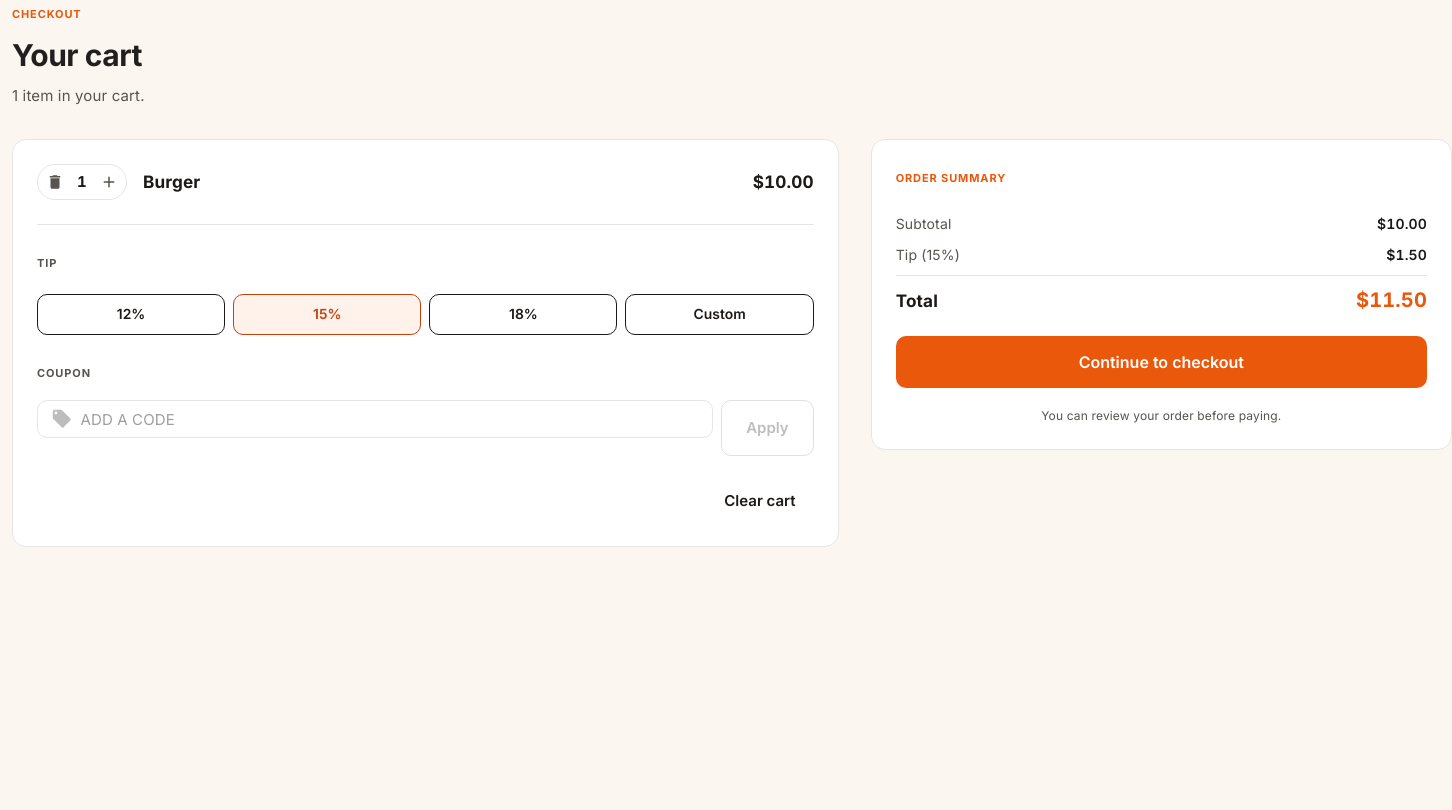
Test case: CartPage › surfaces an error when the coupon is rejected
Type "nope99" into the field named "coupon code" at (397, 419), box [80,400,713,438]
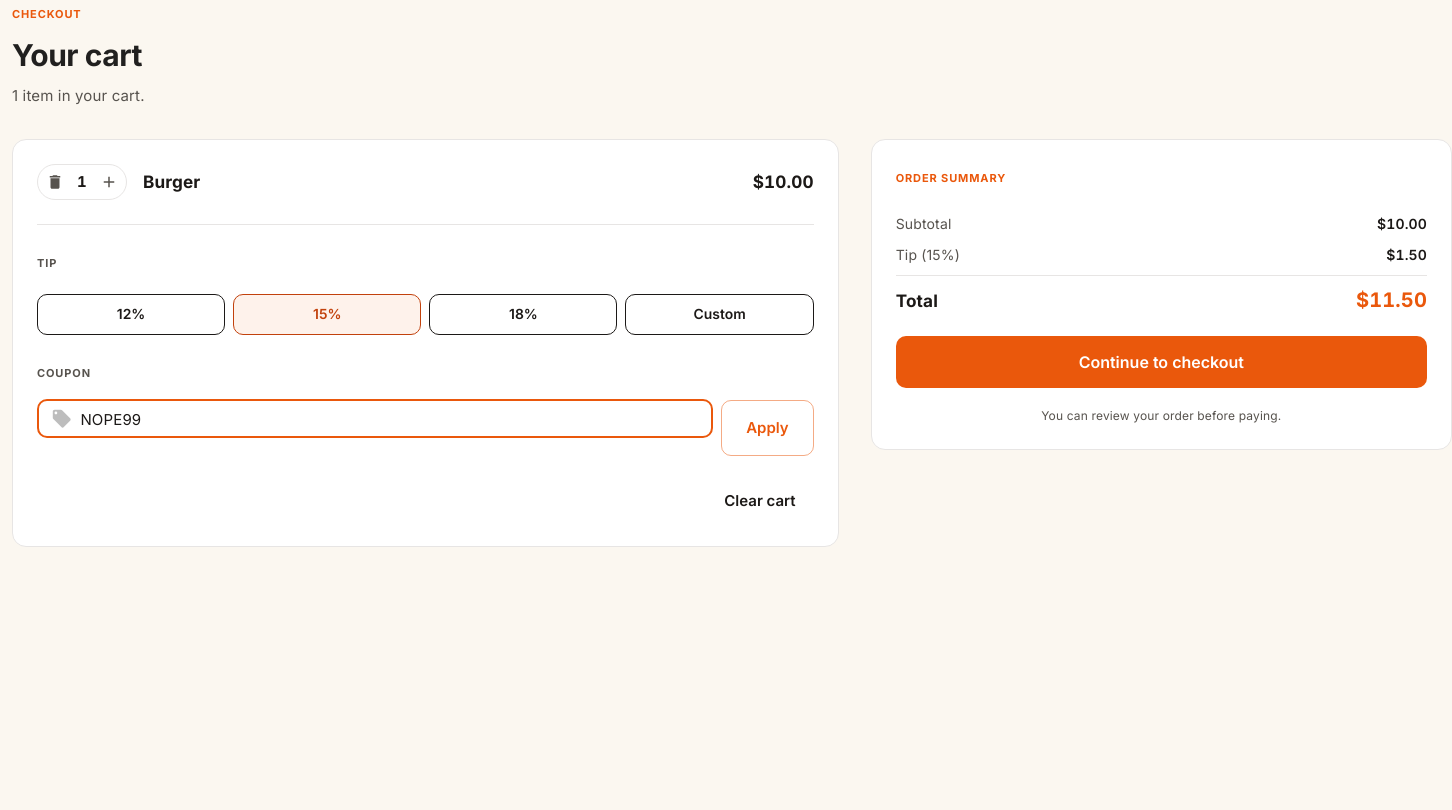
Click the button "Apply" at (767, 428), box [721,400,814,456]
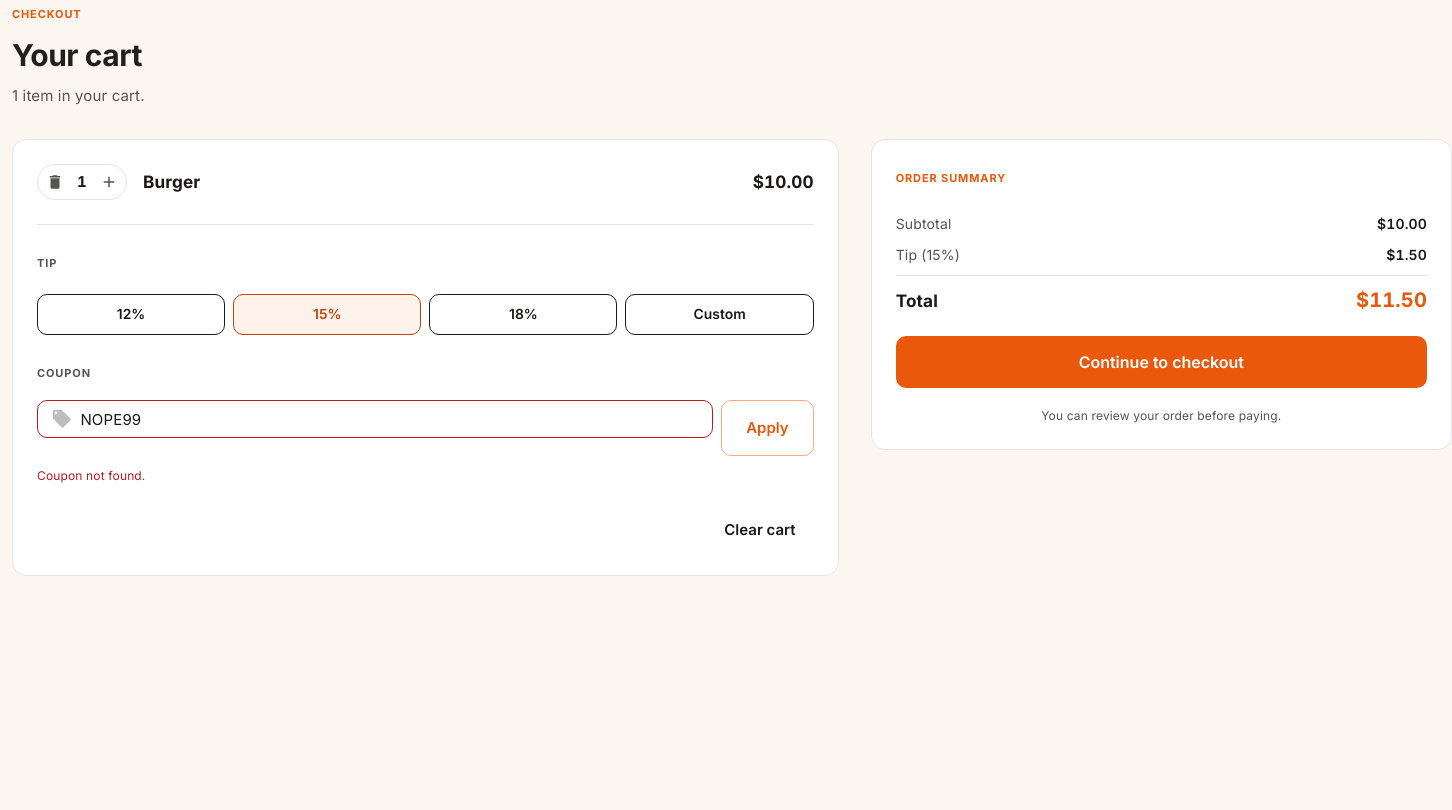
expect the text "Coupon not found." is shown: met, box [37,468,146,483]
